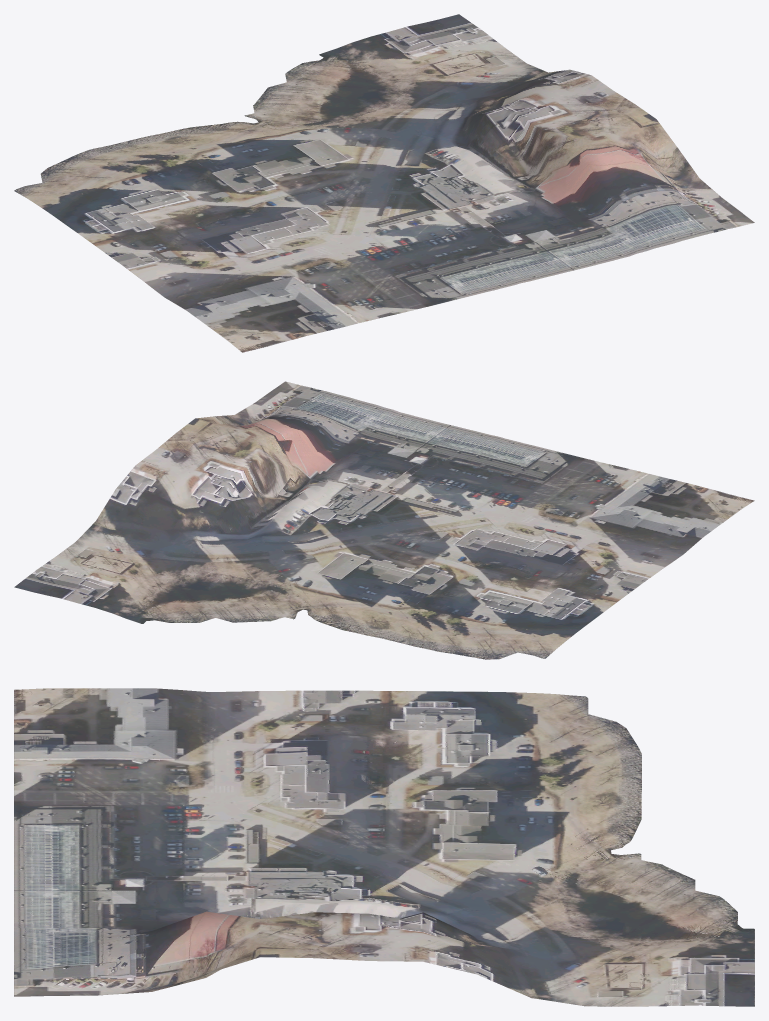
File: CM_Terrain_24487797_6822456.fbx
3 renders of one model, top to bottom at view 1: azimuth 30°, elevation 25°; view 2: azimuth 150°, elevation 25°; view 3: azimuth 270°, elevation 25°, orthographic. The views are drawn at different scales.
Parts seen in each view (by area): view 1: CM_Terrain_24487797_6822456_LOD0; view 2: CM_Terrain_24487797_6822456_LOD0; view 3: CM_Terrain_24487797_6822456_LOD0.
Boxes of the visible parts, left/top/right/bottom form: CM_Terrain_24487797_6822456_LOD0: left=14, top=14, right=754, bottom=352; CM_Terrain_24487797_6822456_LOD0: left=14, top=381, right=754, bottom=659; CM_Terrain_24487797_6822456_LOD0: left=14, top=688, right=754, bottom=1006.
Size of what is drawn, in the model's own units: 205 by 17.64 by 205.
